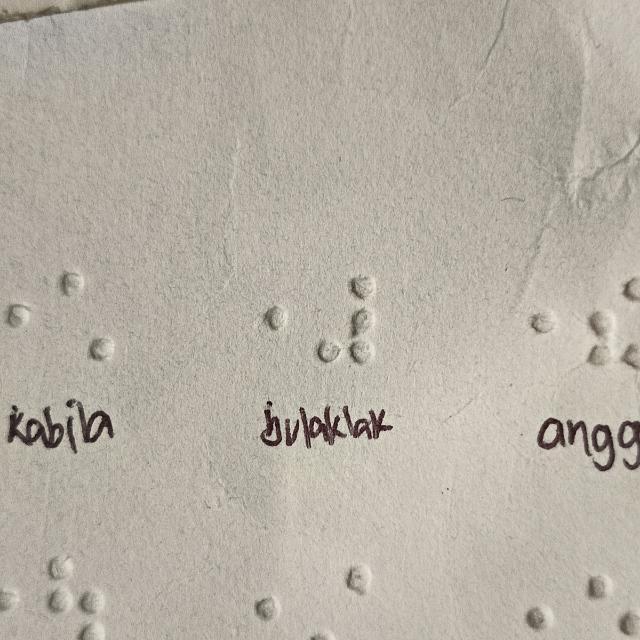dot_5: (225, 270, 291, 368)
two_cell_non_alphabet_bulaklak: (311, 271, 377, 369)
